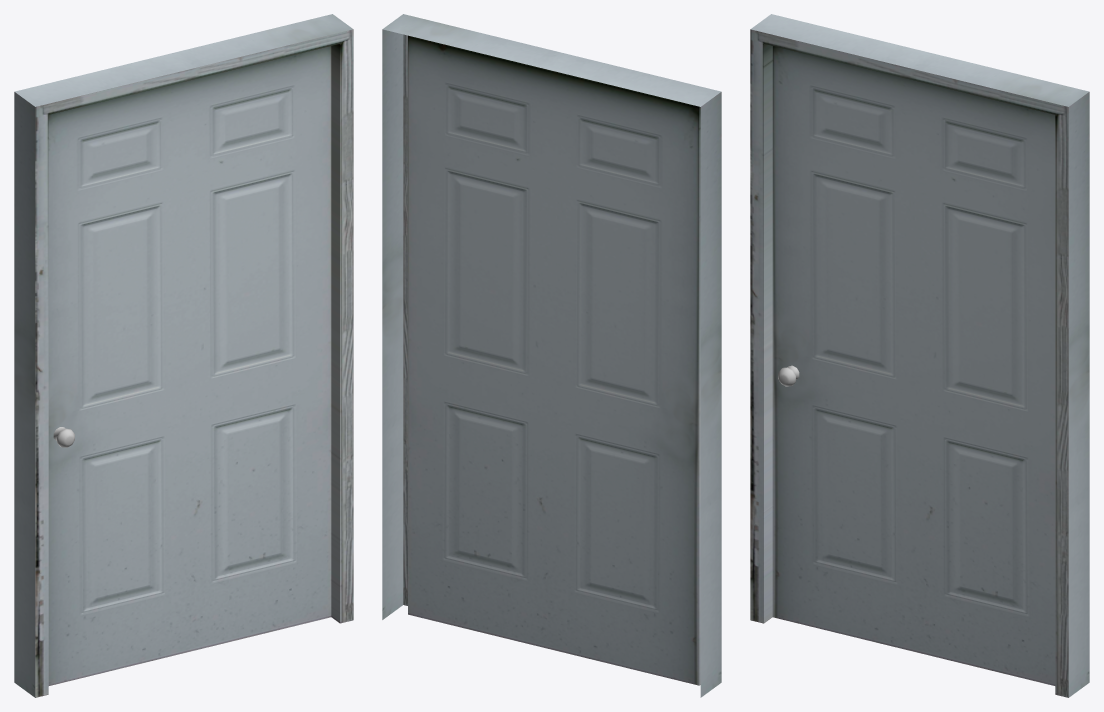
File: door_1.fbx
The picture shows the model from 3 angles, left to right: view 1: azimuth 30°, elevation 25°; view 2: azimuth 150°, elevation 25°; view 3: azimuth 330°, elevation 25°; orthographic projection.
Parts seen in each view (by area): view 1: door_1; view 2: door_1; view 3: door_1.
Part boxes in pixels (left/top/right/bottom): door_1: left=14, top=14, right=353, bottom=697; door_1: left=382, top=14, right=721, bottom=697; door_1: left=750, top=14, right=1089, bottom=697.
Bounding box in the file's own units: 2.09 × 3.7 × 0.2437.
